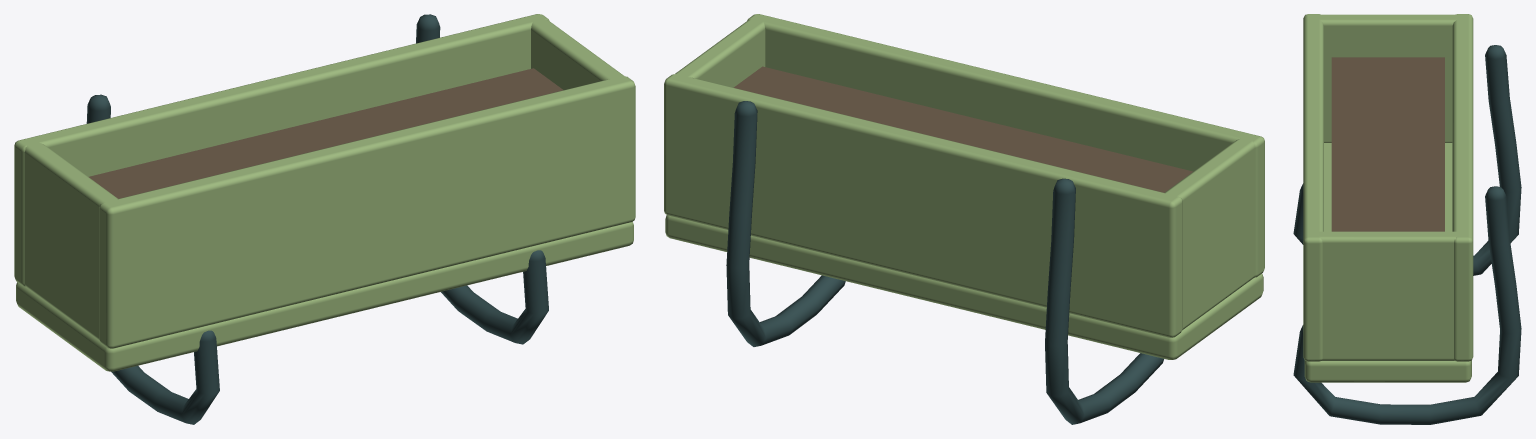
The model's file is almanac-gardens-window-box-9b790cbf__22020.glb.
The picture shows the model from 3 angles, left to right: view 1: azimuth 30°, elevation 25°; view 2: azimuth 150°, elevation 25°; view 3: azimuth 270°, elevation 25°; orthographic projection. The views are drawn at different scales.
Parts seen in each view (by area): view 1: window-box-sage, window-box-soil, window-box-iron; view 2: window-box-sage, window-box-iron, window-box-soil; view 3: window-box-sage, window-box-soil, window-box-iron.
Boxes of the visible parts, left/top/right/bottom form: window-box-sage: left=14, top=14, right=635, bottom=371; window-box-soil: left=89, top=68, right=563, bottom=198; window-box-iron: left=86, top=14, right=548, bottom=424; window-box-sage: left=664, top=14, right=1264, bottom=359; window-box-iron: left=726, top=101, right=1163, bottom=424; window-box-soil: left=733, top=66, right=1192, bottom=192; window-box-sage: left=1303, top=14, right=1473, bottom=382; window-box-soil: left=1331, top=57, right=1444, bottom=231; window-box-iron: left=1293, top=45, right=1521, bottom=424.
Size of the model in its own units: 0.9 by 0.44 by 0.382.
